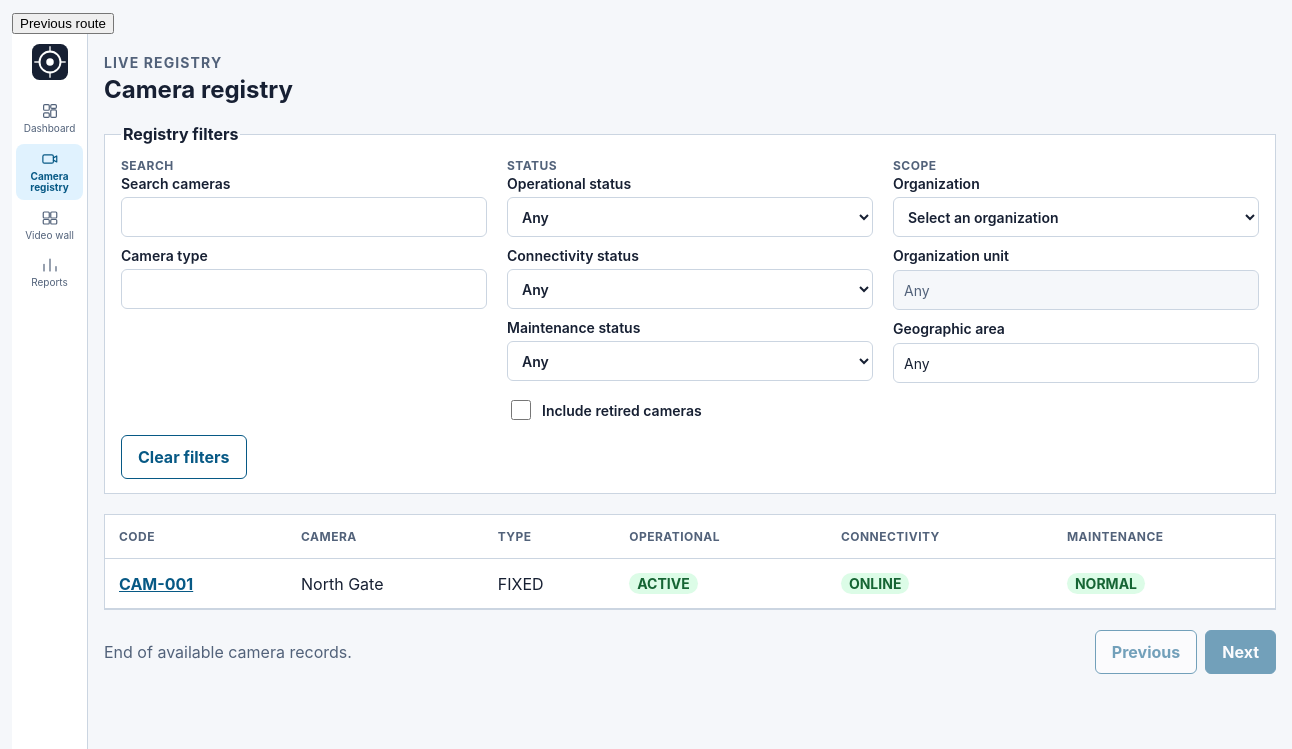
Test: RegistryPage › preserves filter focus while results load and allows recovery from an invalid filter
Step 1. Type "bad" into the field labelled "Camera type" → point(304, 289), box top-left (121, 269), bottom-right (487, 309)
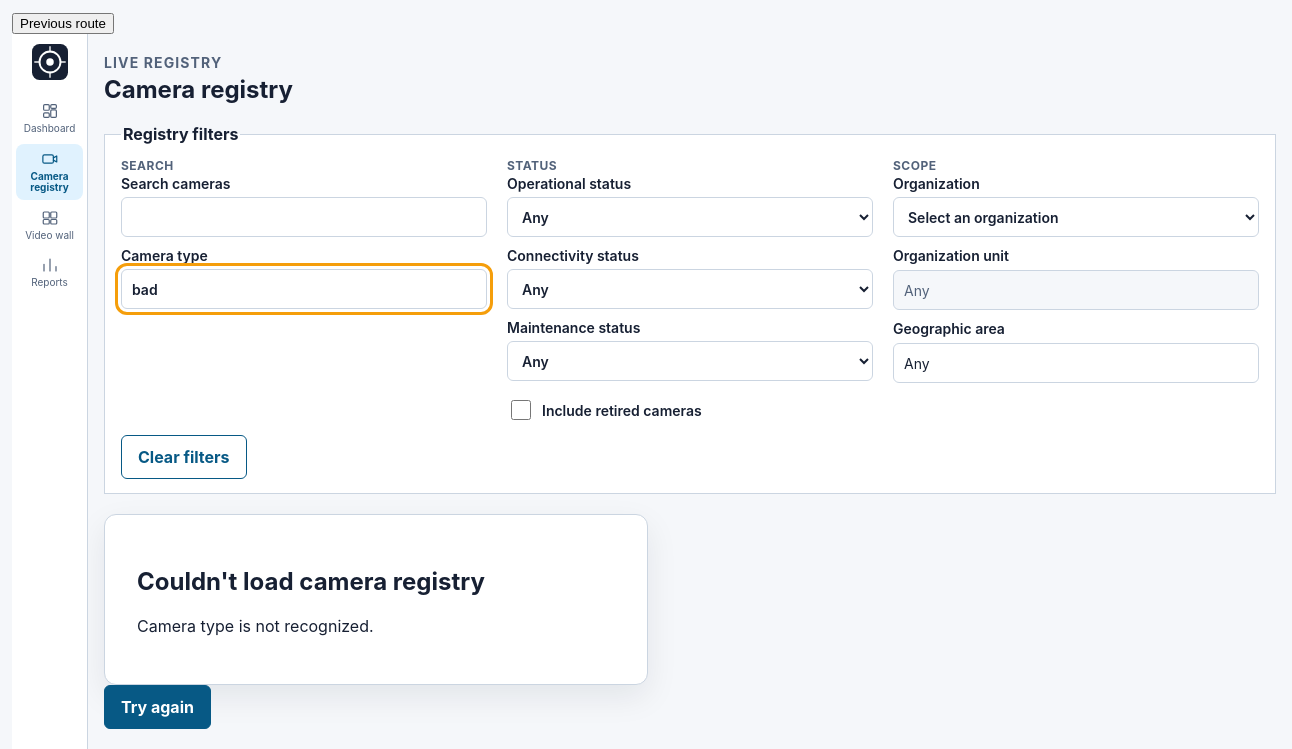
Check: the heading "Couldn't load camera registry" is shown, box top-left (137, 567), bottom-right (485, 596)
Step 2. Clear the field labelled "Camera type" → point(304, 289), box top-left (121, 269), bottom-right (487, 309)
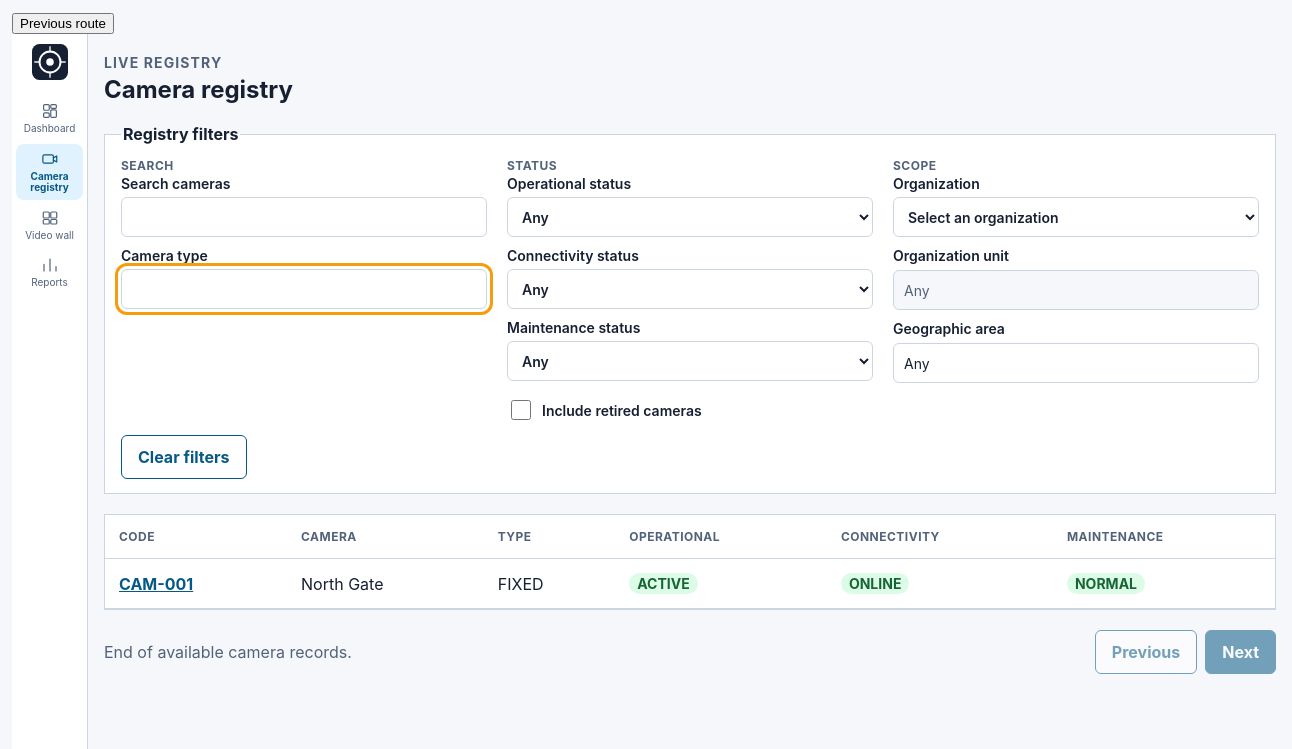
Check: the text "North Gate" is shown, box top-left (287, 559), bottom-right (484, 608)
